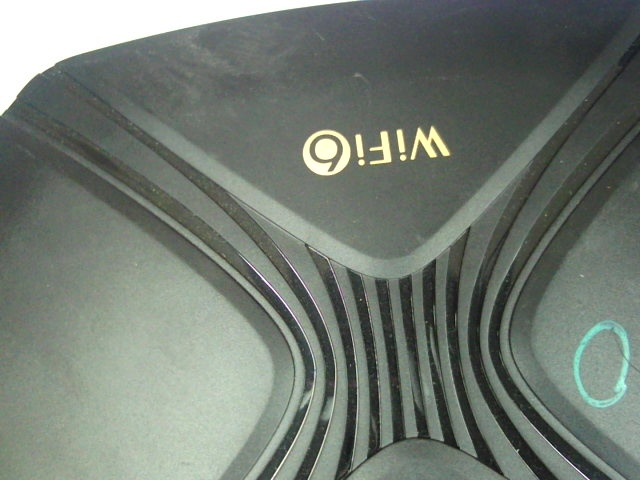AK_ZTEWIFI6Black: (276, 113, 468, 178)
